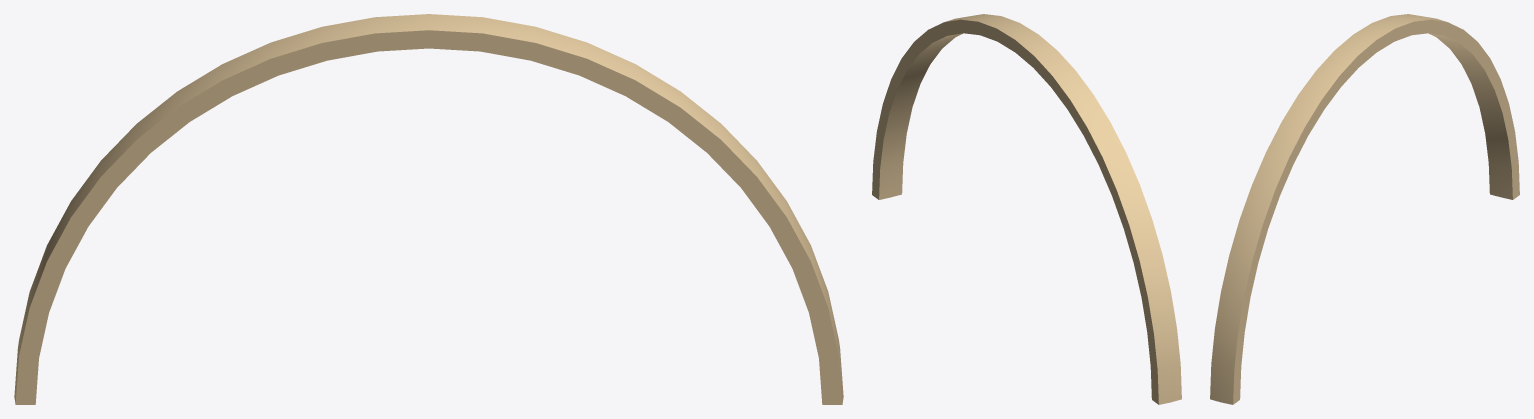
Rendered from Holder.glb.
The picture shows the model from 3 angles, left to right: view 1: azimuth 30°, elevation 25°; view 2: azimuth 150°, elevation 25°; view 3: azimuth 270°, elevation 25°; orthographic projection. The views are drawn at different scales.
Parts seen in each view (by area): view 1: Torus.003; view 2: Torus.003; view 3: Torus.003.
Boxes of the visible parts, x1=… form: Torus.003: x1=14, y1=14, x2=843, y2=404; Torus.003: x1=872, y1=14, x2=1181, y2=404; Torus.003: x1=1210, y1=14, x2=1519, y2=404.
Bounding box in the file's own units: 1.82 × 1.03 × 1.11.
